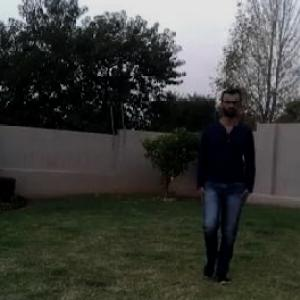follow: (196, 97, 251, 269)
